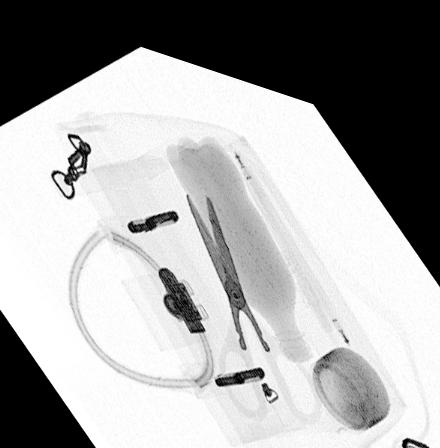Scissors: (179, 175, 326, 410)
